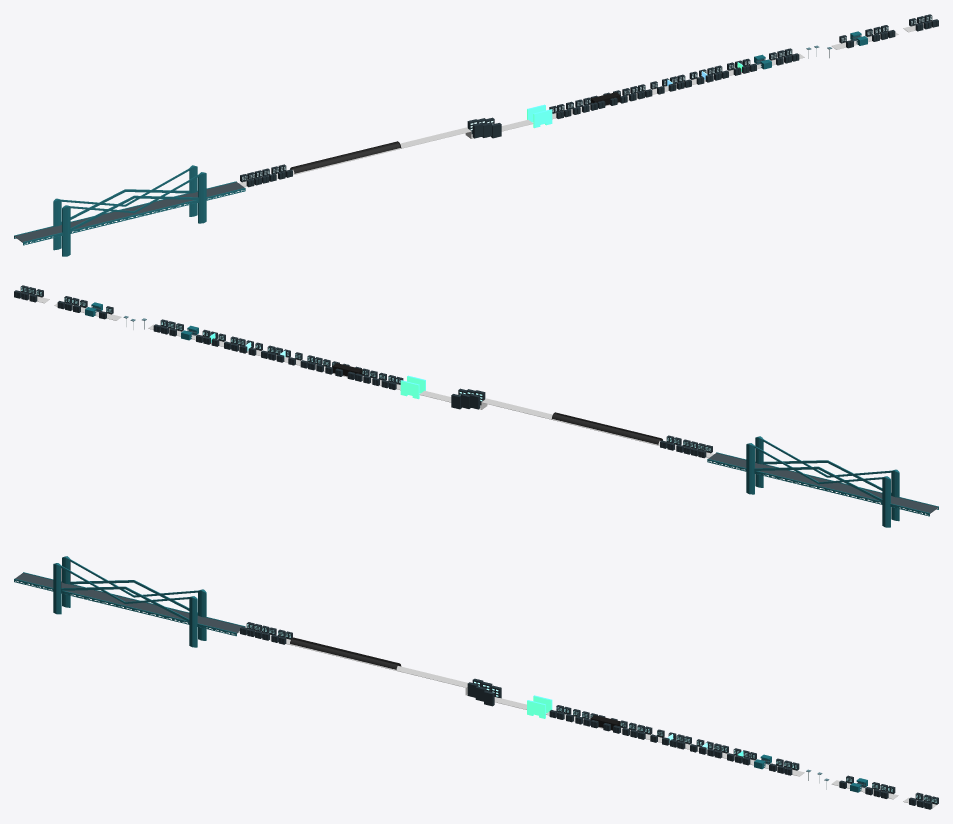
Rendered from Field.fbx.
3 renders of one model, top to bottom at view 1: azimuth 30°, elevation 25°; view 2: azimuth 150°, elevation 25°; view 3: azimuth 330°, elevation 25°, orthographic.
Parts seen in each view (by area): view 1: Cube.006, Cylinder, Cube.005; view 2: Cube.006, Cylinder, Cube.005; view 3: Cube.006, Cylinder, Cube.005.
Boxes of the visible parts, x1,y1,x2,y2 form: Cube.006: (14, 165, 245, 256); Cylinder: (290, 141, 401, 173); Cube.005: (239, 127, 471, 186); Cube.006: (707, 436, 938, 527); Cylinder: (551, 412, 662, 444); Cube.005: (481, 398, 713, 457); Cube.006: (14, 556, 245, 647); Cylinder: (290, 637, 401, 669); Cube.005: (238, 631, 467, 687).
Size of the model in its own units: 333652 by 17303 by 7156.
